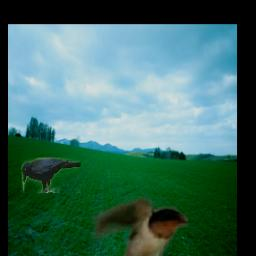Crow: (21, 158, 81, 194)
Swallow: (91, 197, 188, 256)
